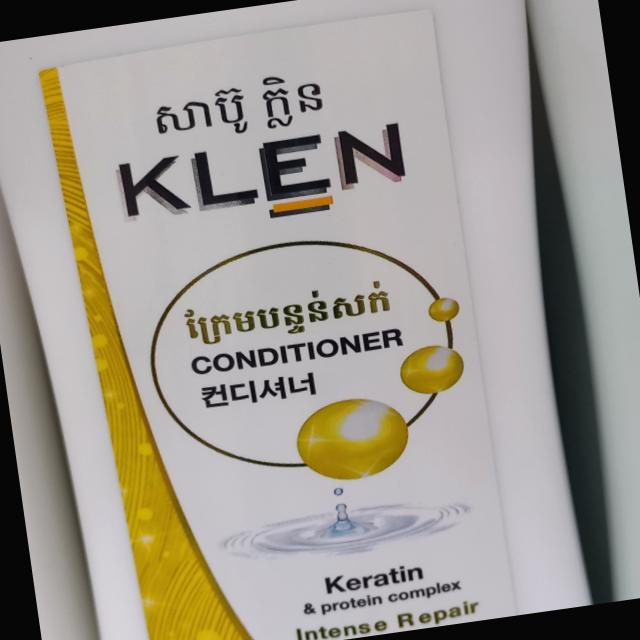1: (147, 62, 337, 151)
Yolov11_80vkh: (176, 273, 398, 355)
